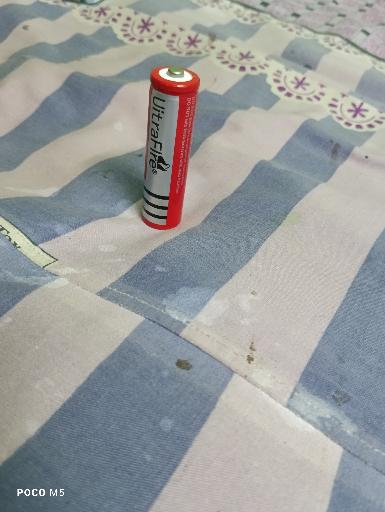Battery: (141, 65, 200, 230)
